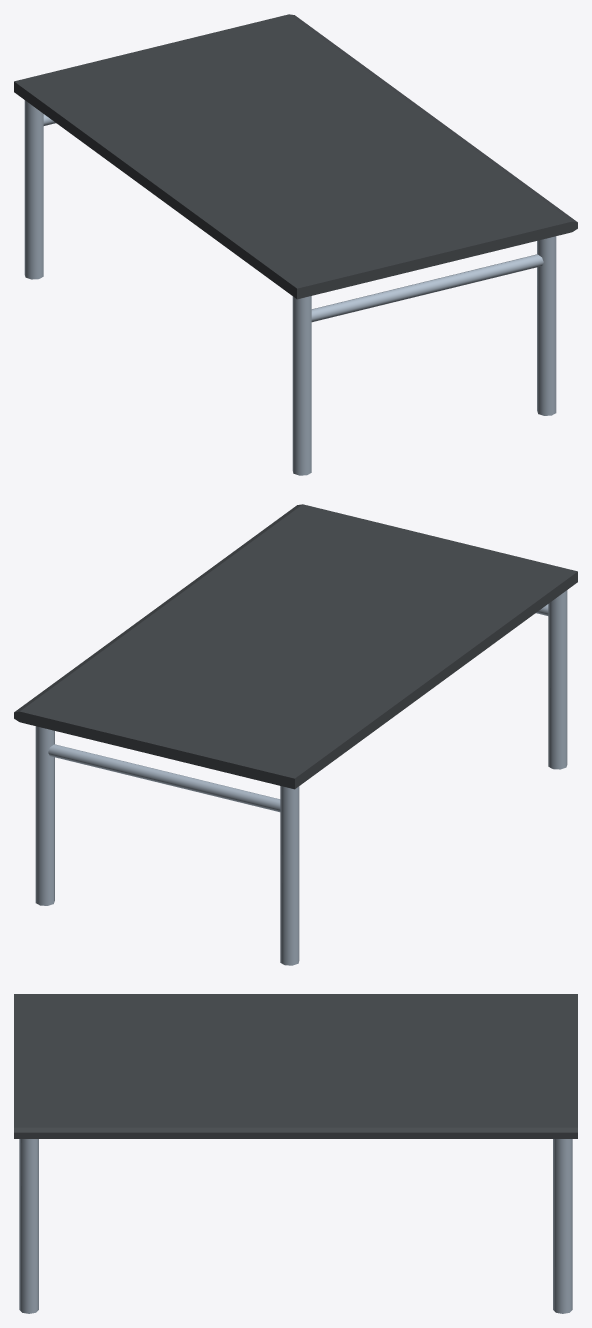
File: SM_table_fd_02.fbx
3 renders of one model, top to bottom at view 1: azimuth 30°, elevation 25°; view 2: azimuth 150°, elevation 25°; view 3: azimuth 270°, elevation 25°, orthographic.
Parts seen in each view (by area): view 1: table_fd_02; view 2: table_fd_02; view 3: table_fd_02.
Boxes of the visible parts, x1=… form: table_fd_02: x1=14, y1=14, x2=577, y2=475; table_fd_02: x1=14, y1=504, x2=577, y2=965; table_fd_02: x1=14, y1=994, x2=577, y2=1313.
Size of the model in its own units: 150 by 97.58 by 261.
